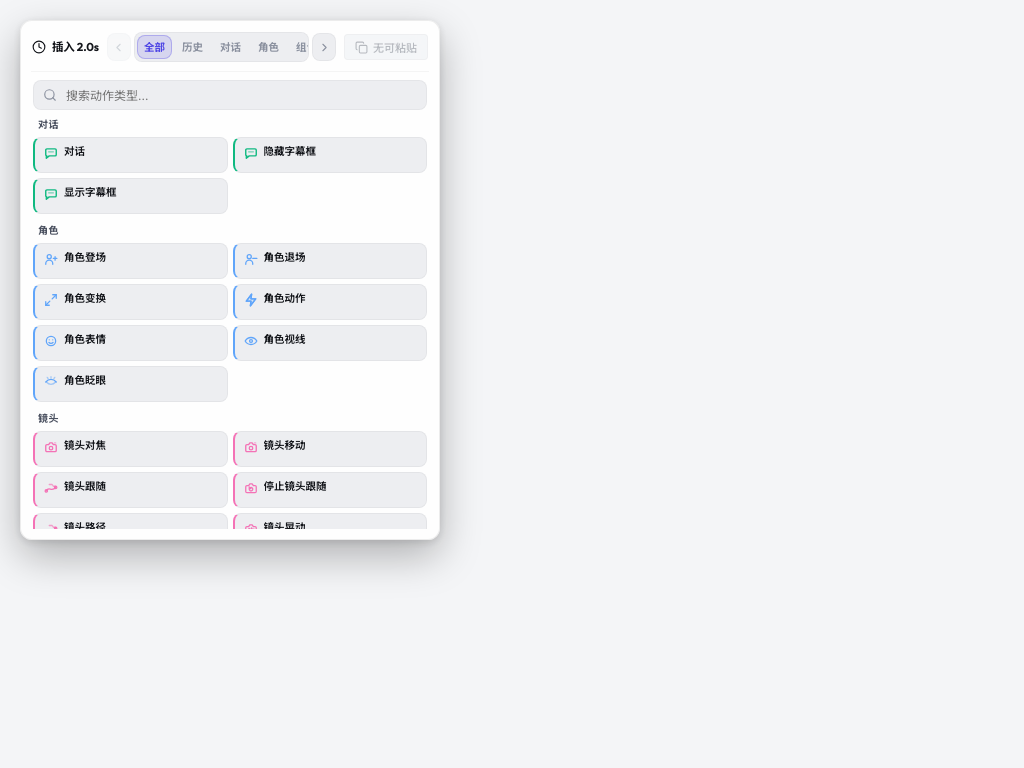
Test: blank timeline context menu › renders an empty state when search matches nothing and clears with clear button
Type "不存在的动作xyz" into the field with placeholder "搜索动作类型...". click: x=230, y=95
box: [33,80,427,110]
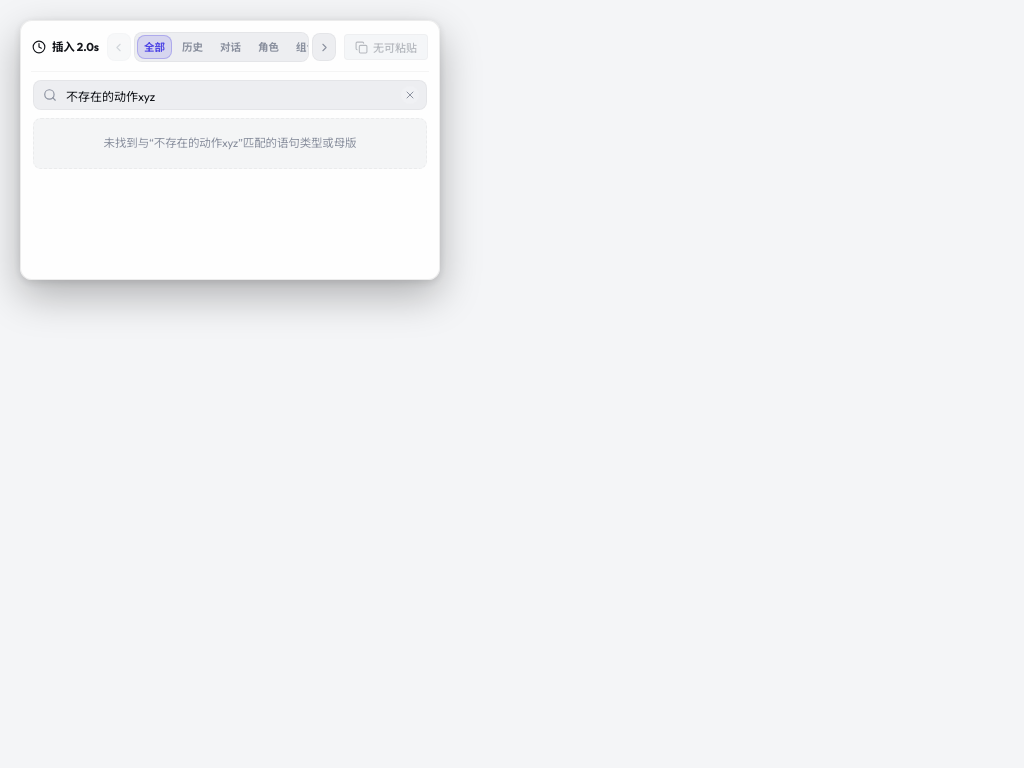
Expected: the text "未找到与“不存在的动作xyz”匹配的语句类型或母版" is shown, [33,118,427,169]
Expected: the button named "清空搜索" is shown
Click the button named "清空搜索". click: x=410, y=95
box: [401,86,419,104]
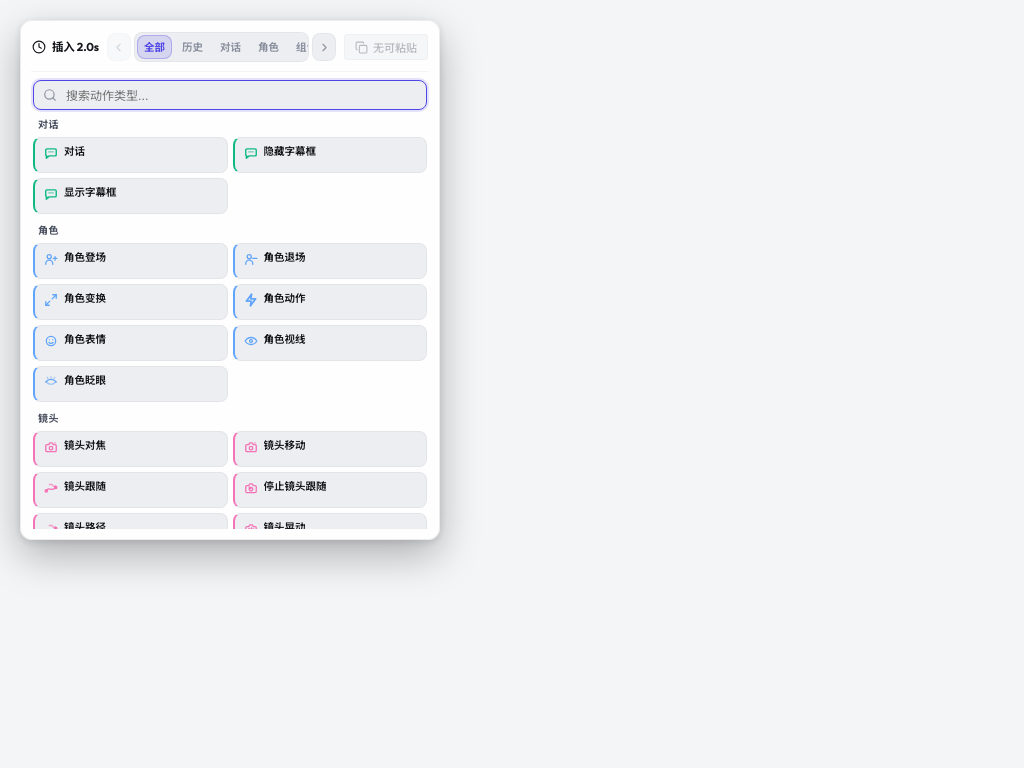
Expected: the text "未找到与“不存在的动作xyz”匹配的语句类型或母版" is gone
Expected: the field with placeholder "搜索动作类型..." is empty, [33,80,427,110]
